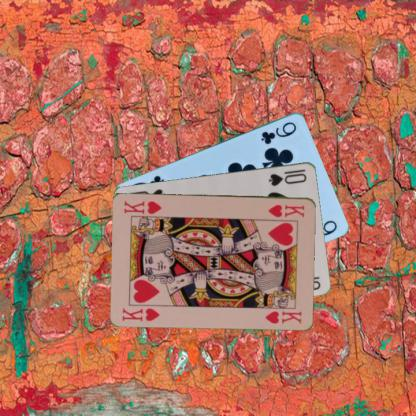10s: (266, 171, 308, 188)
9c: (258, 118, 298, 146)
Kh: (120, 305, 161, 322), (265, 202, 306, 218)
